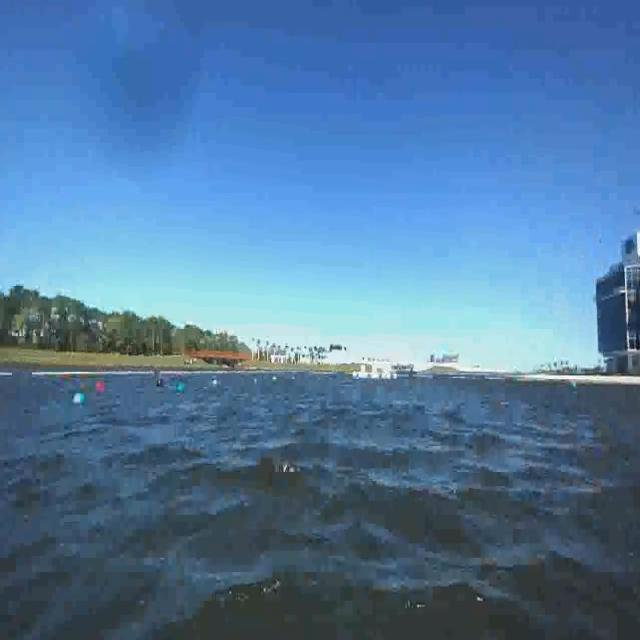green-buoy: (72, 392, 84, 403)
red-buoy: (94, 376, 106, 394)
